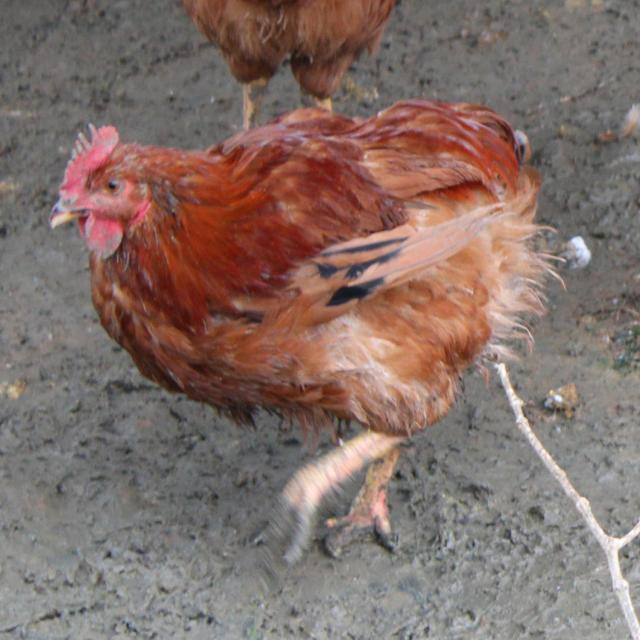cook: (43, 89, 576, 584)
